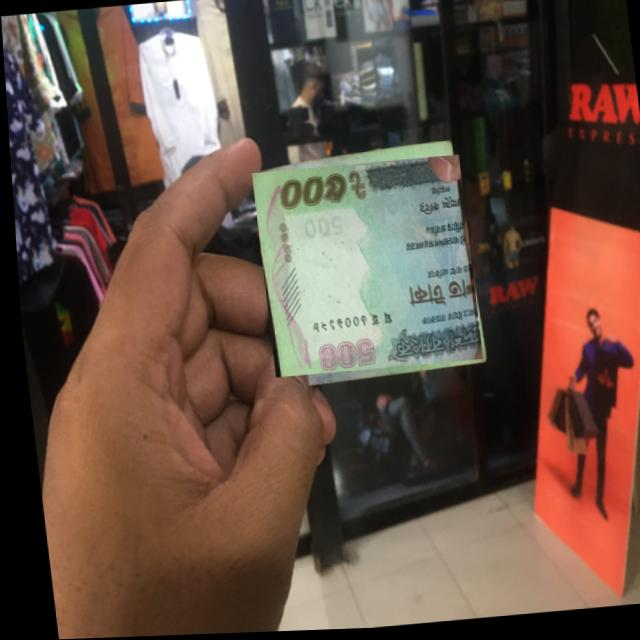Taka: (249, 158, 478, 380)
